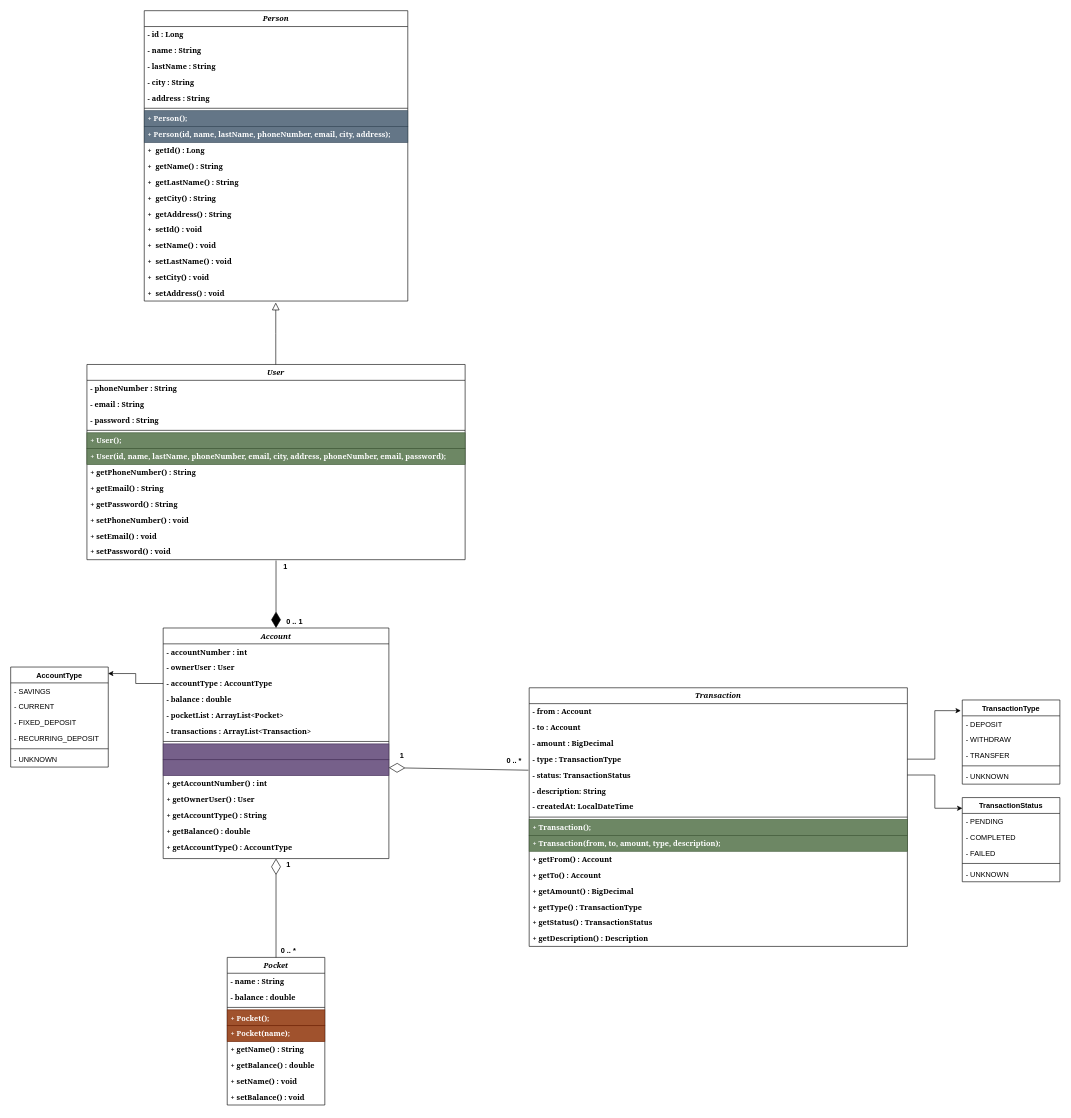
The diagram is 1071 pixels wide and 1118 high, and some of its shapes have lost their labels. Here are the shapes that lost their labels. From the top down, the centre of each, then its label:
At (276,751): "+ Account();".
At (276,767): "+ Account(ownerUser, accountType);".
